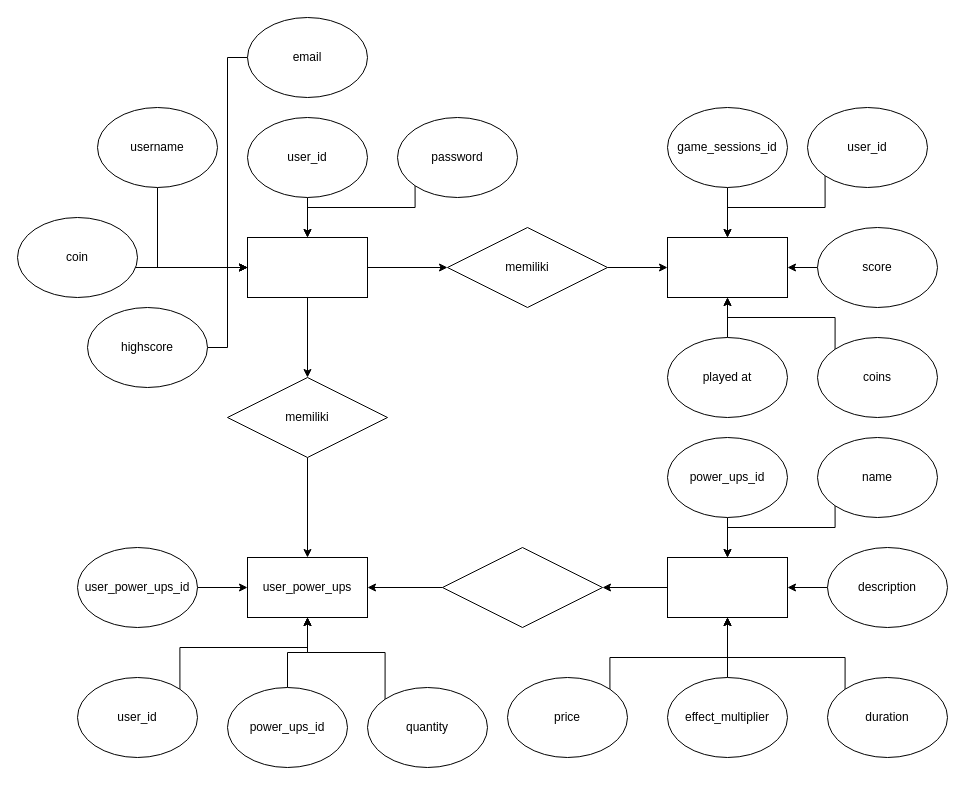
Image size: 965x785. Some labels were removed from this diagram. The box of each missing label's shape, as (x1, y1, x2, y2) in pixels:
game_sessions: (666, 236, 788, 298)
jika dibeli user: (442, 546, 602, 628)
power_ups: (666, 556, 788, 618)
users: (246, 236, 368, 298)
